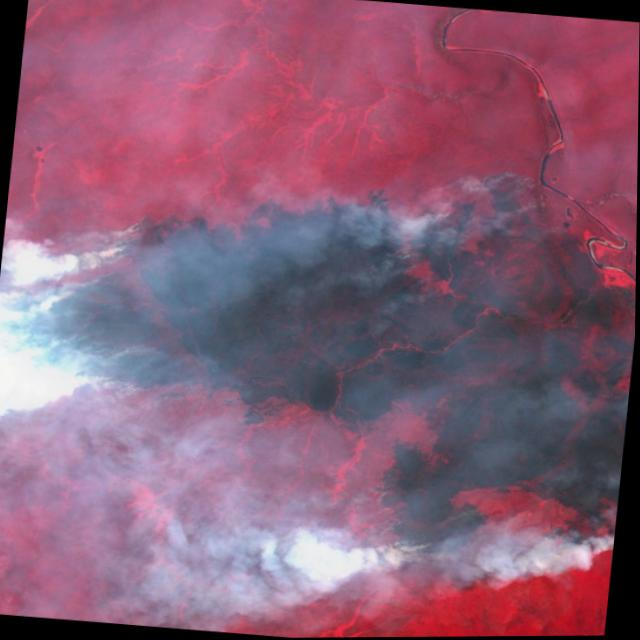fire: (0, 196, 210, 414), (342, 157, 556, 317), (354, 457, 622, 584)
